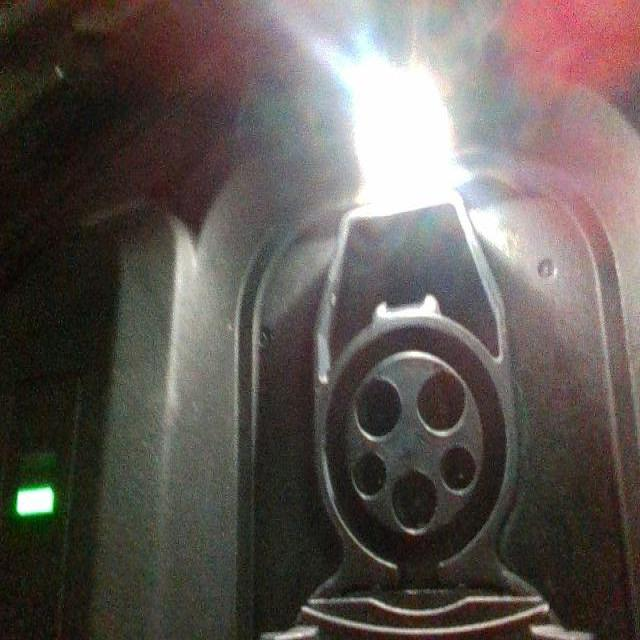Type 1: (313, 322, 508, 561)
